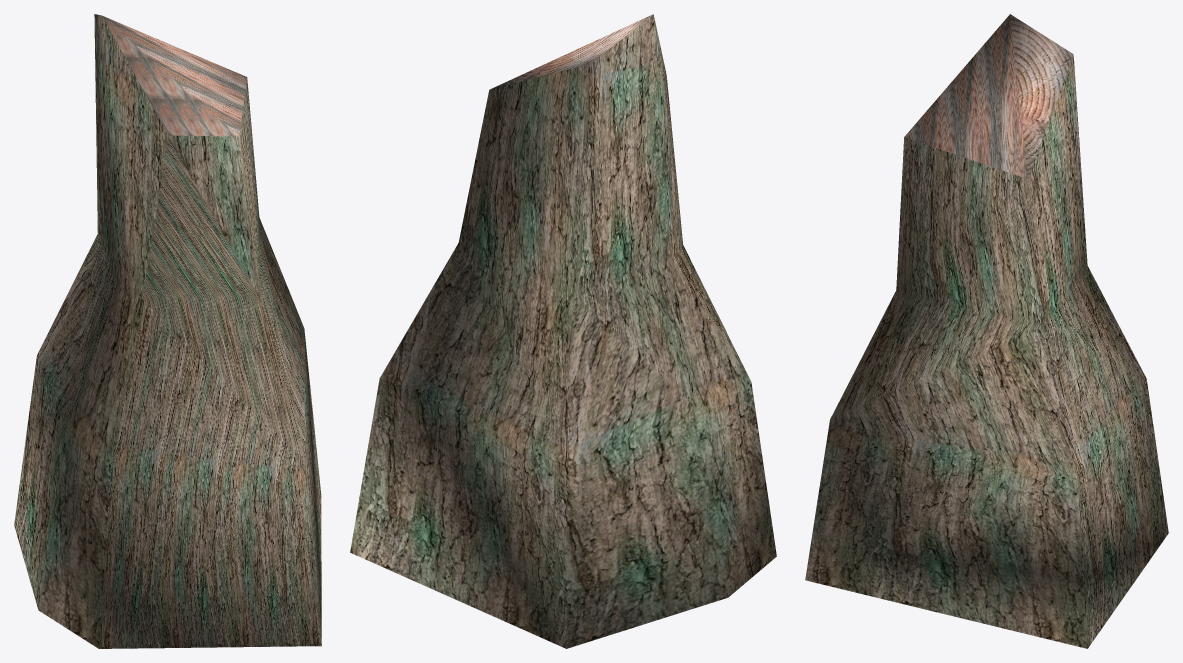
The model's file is decd_dogwoodstump_l2.fbx.
3 views of the same model, side by side, from view 1: azimuth 30°, elevation 25°; view 2: azimuth 150°, elevation 25°; view 3: azimuth 270°, elevation 25° (orthographic). The views are drawn at different scales.
Visible parts, largest first — view 1: mesh_node; view 2: mesh_node; view 3: mesh_node.
Part boxes in pixels (<box>): mesh_node: <box>14,14,321,648</box>; mesh_node: <box>350,14,776,648</box>; mesh_node: <box>805,14,1168,648</box>.
Size of the model in its own units: 0.4417 by 0.7308 by 0.4638.
